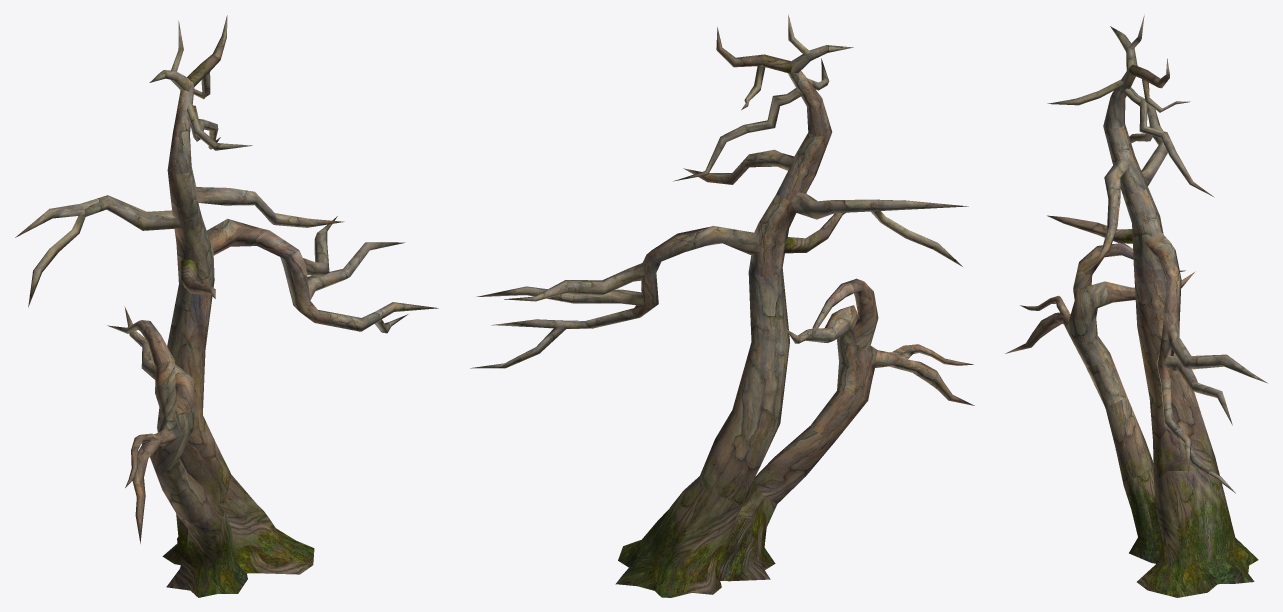
File: shi_gan_06.FBX
The picture shows the model from 3 angles, left to right: view 1: azimuth 30°, elevation 25°; view 2: azimuth 150°, elevation 25°; view 3: azimuth 270°, elevation 25°; orthographic projection. The views are drawn at different scales.
Visible parts, largest first — view 1: shi_gan_06; view 2: shi_gan_06; view 3: shi_gan_06.
Part boxes in pixels (x1,y1,x2,y2): shi_gan_06: [15, 15, 438, 597]; shi_gan_06: [470, 14, 974, 597]; shi_gan_06: [1005, 14, 1267, 597].
Size of the model in its own units: 62.04 by 74.47 by 34.44.
